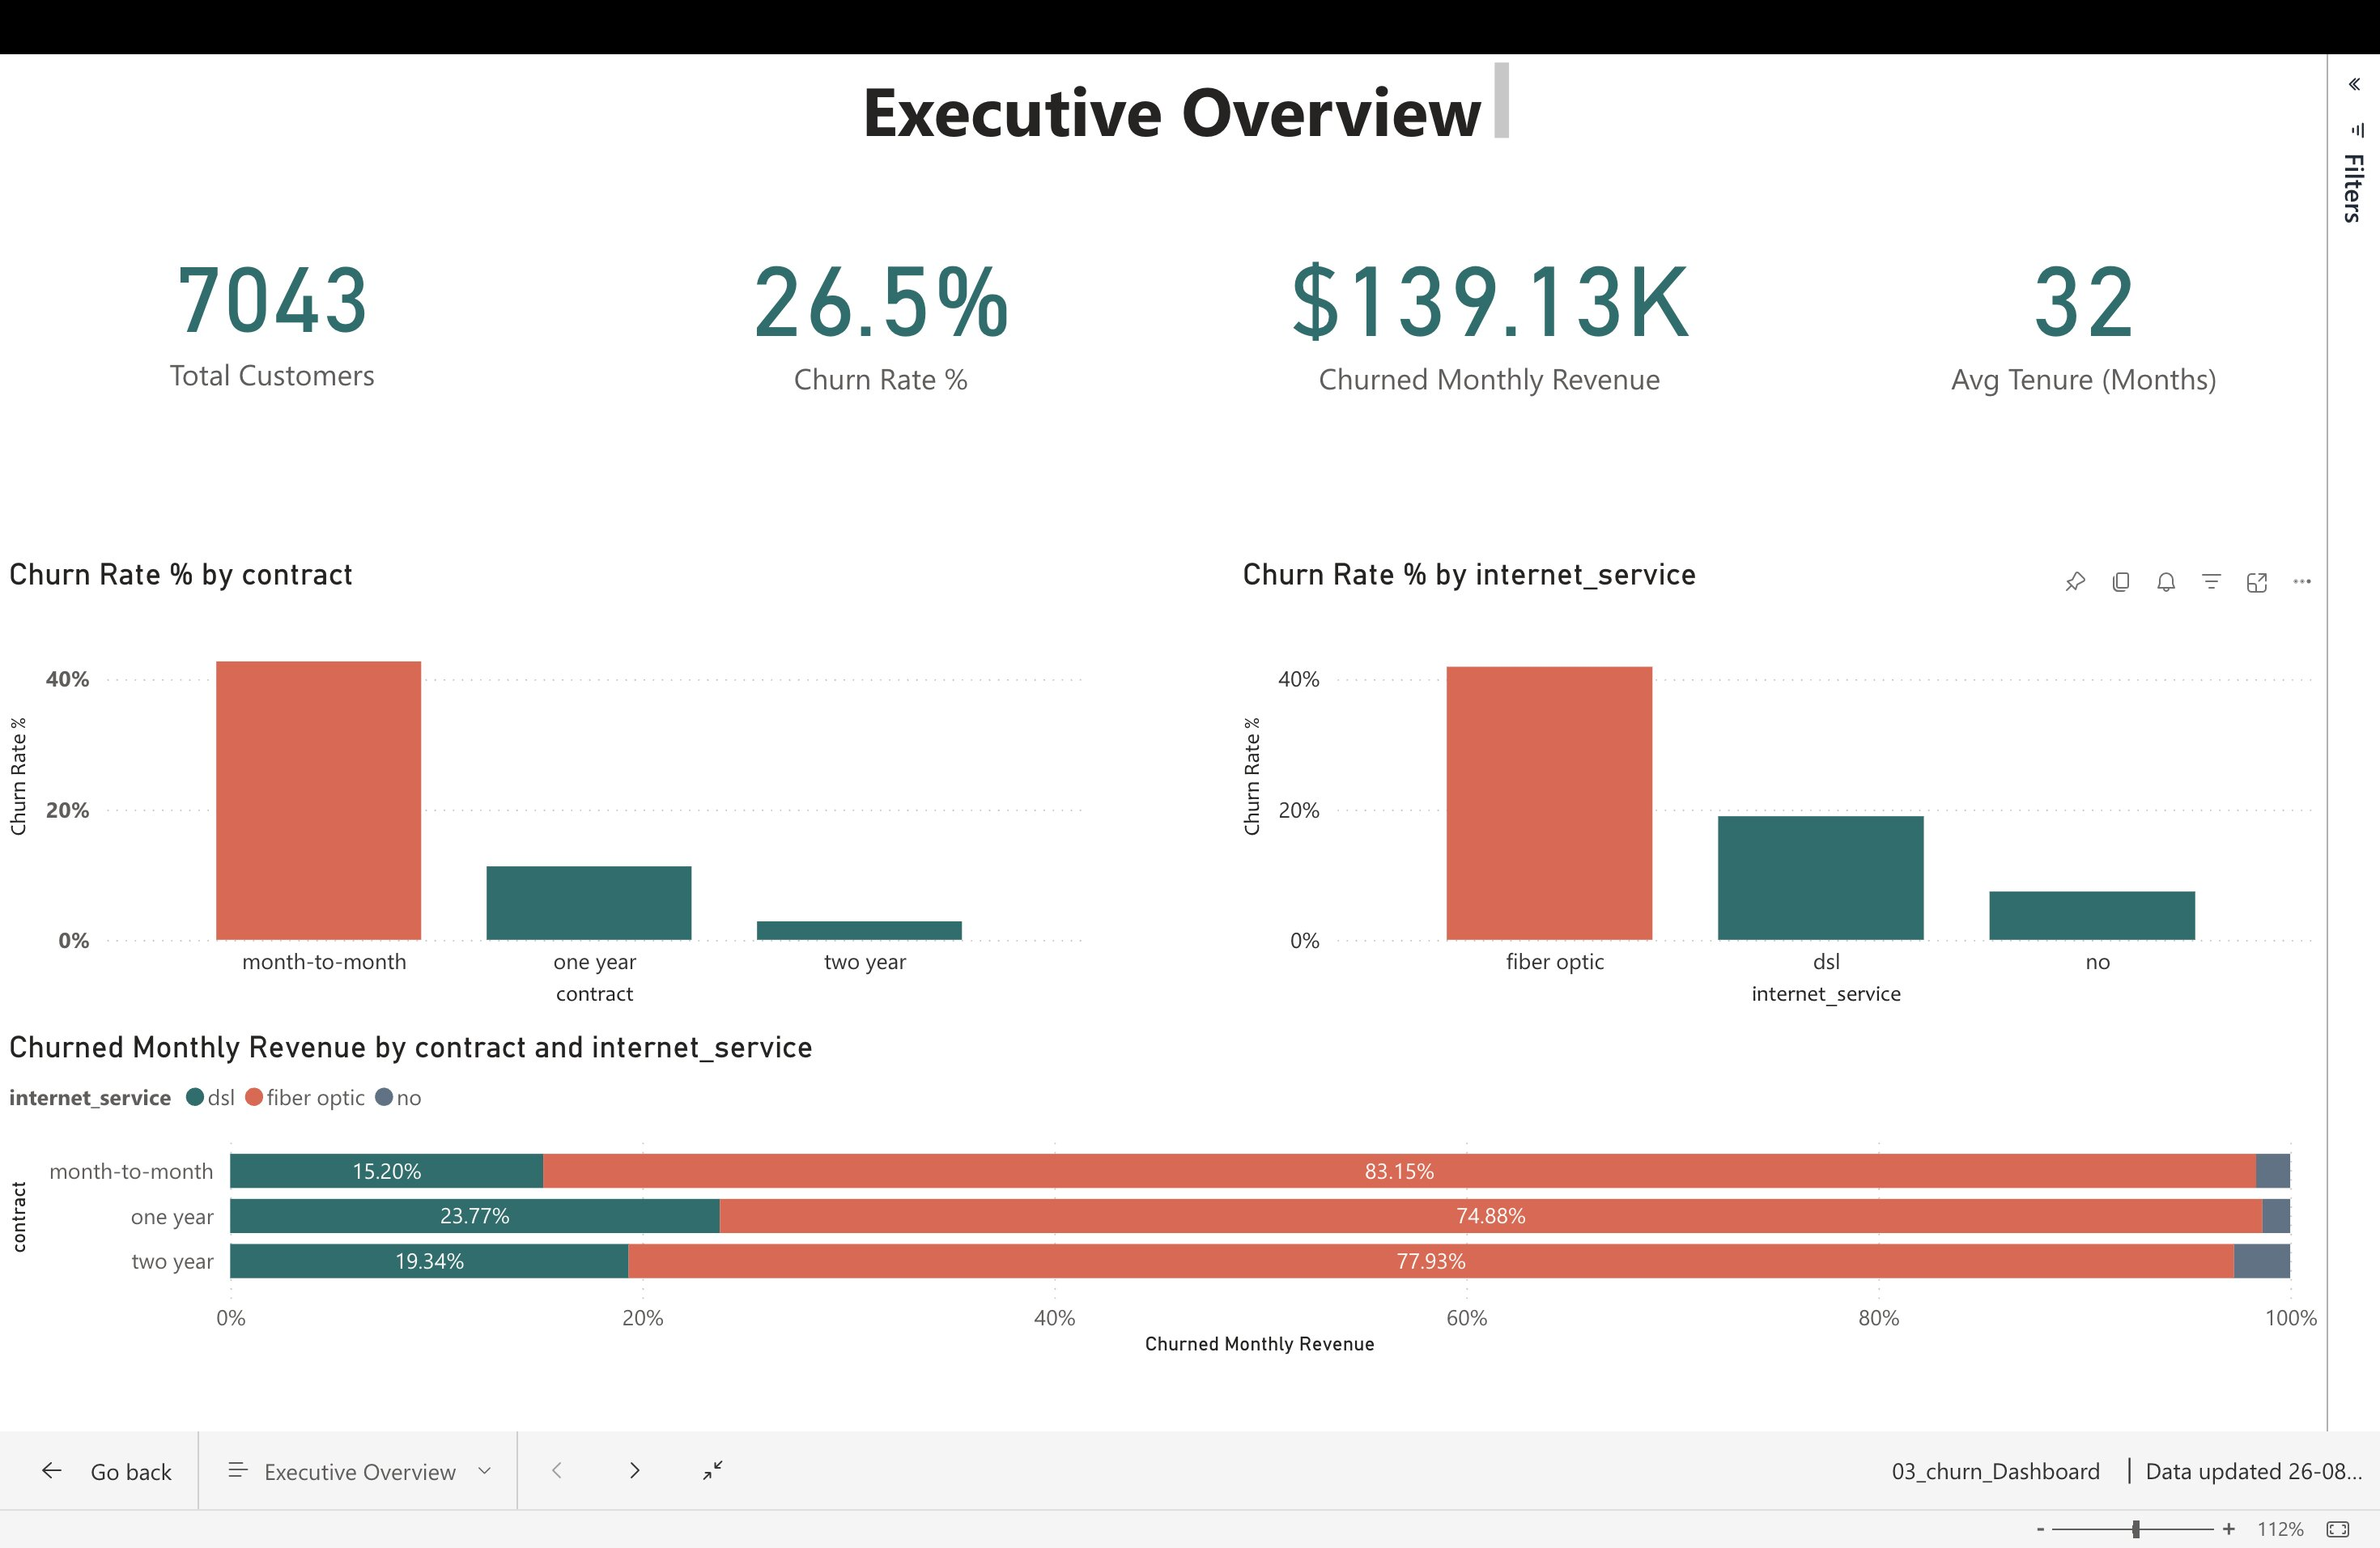

What the dashboard file says about the page in this screenshot:
{"tool":"powerbi","page":{"name":"Executive Overview","canvas":[1280,720],"ordinal":0},"visuals":[{"type":"card","fields":{"Values":["stg_telco_clean.Total Customers"]},"box":[10,0,280,280],"z":0},{"type":"card","fields":{"Values":["stg_telco_clean.Churn Rate %"]},"box":[344.7,0,280,280],"z":1000},{"type":"card","fields":{"Values":["stg_telco_clean.Churned Monthly Revenue"]},"box":[679.3,0,280,280],"z":2000},{"type":"card","fields":{"Values":["stg_telco_clean.Avg Tenure (Months)"]},"box":[1014,0,266,280],"z":3000},{"type":"clusteredColumnChart","fields":{"Category":["stg_telco_clean.contract"],"Y":["stg_telco_clean.Churn Rate %"]},"box":[0,278.8,600,250.3],"z":4000},{"type":"clusteredColumnChart","fields":{"Category":["stg_telco_clean.internet_service"],"Y":["stg_telco_clean.Churn Rate %"]},"box":[678.6,278.8,600,250.3],"z":5000},{"type":"hundredPercentStackedBarChart","fields":{"Category":["stg_telco_clean.contract"],"Series":["stg_telco_clean.internet_service"],"Y":["stg_telco_clean.Churned Monthly Revenue"]},"box":[0,539.2,1280,181.4],"z":6000},{"type":"textbox","box":[461.9,0,372.9,55.4],"z":7000}]}

Visuals, with their boxes on the page's 1280x720 design canvas (x1, y1, x2, y2). These are canvas units, not pixel positions in the 2380x1548 screenshot, which may show the page scaled, cropped or inside an application window:
card - stg_telco_clean.Total Customers: x1=10 y1=0 x2=290 y2=280
card - stg_telco_clean.Churn Rate %: x1=345 y1=0 x2=625 y2=280
card - stg_telco_clean.Churned Monthly Revenue: x1=679 y1=0 x2=959 y2=280
card - stg_telco_clean.Avg Tenure (Months): x1=1014 y1=0 x2=1280 y2=280
clusteredColumnChart - stg_telco_clean.contract x stg_telco_clean.Churn Rate %: x1=0 y1=279 x2=600 y2=529
clusteredColumnChart - stg_telco_clean.internet_service x stg_telco_clean.Churn Rate %: x1=679 y1=279 x2=1279 y2=529
hundredPercentStackedBarChart - stg_telco_clean.contract x stg_telco_clean.internet_service: x1=0 y1=539 x2=1280 y2=721
textbox: x1=462 y1=0 x2=835 y2=55
